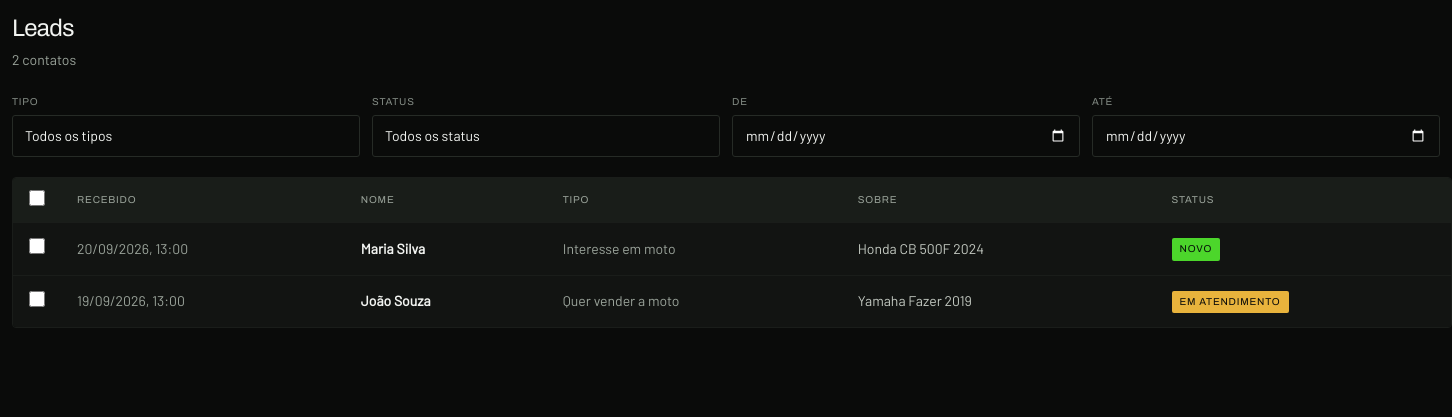
Scenario: tela de leads › dono seleciona vários e exclui de uma vez (decisão E)
Expected: the button "Maria Silva" is shown, [361,239,425,259]
Click the checkbox named "Selecionar todos os leads desta página": point(37, 198) [29,190,45,206]
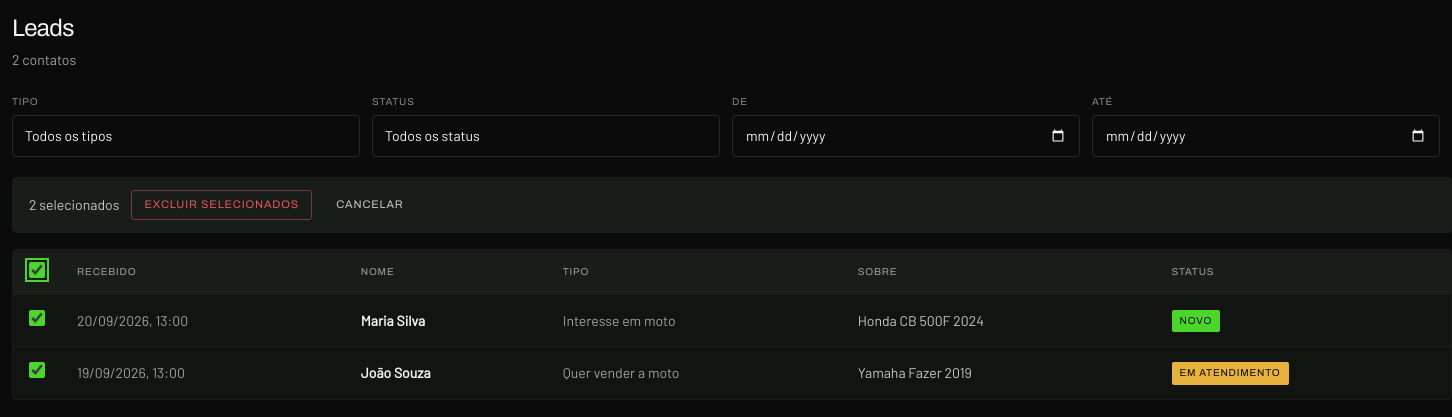
Now the text "2 selecionados" is shown, box [29,195,119,215]
Click the button "Excluir selecionados": point(222, 205) [131,190,312,220]
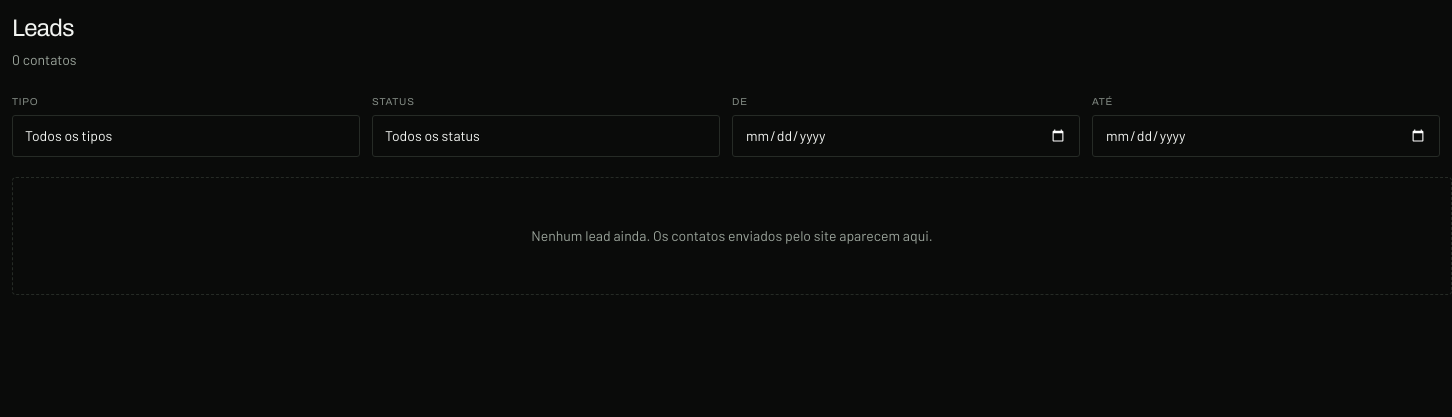
Now the text "Nenhum lead ainda" is shown, box [531,227,933,244]
